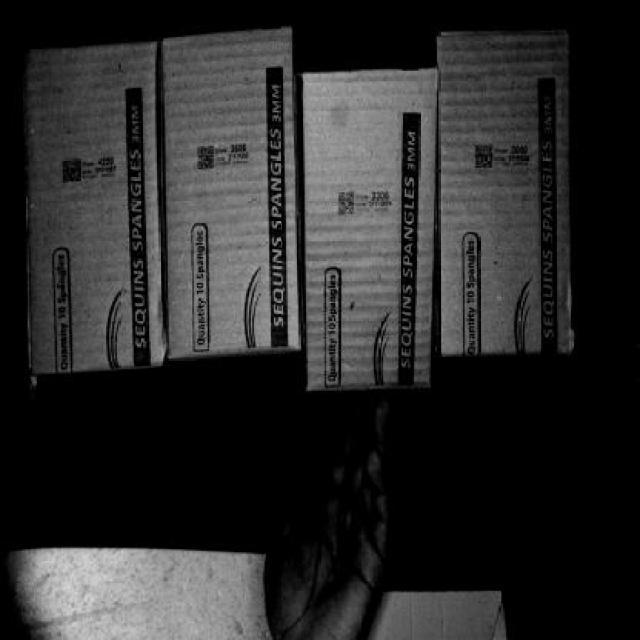box: (441, 29, 576, 354), (28, 43, 164, 362), (164, 31, 298, 352), (304, 71, 436, 391)
